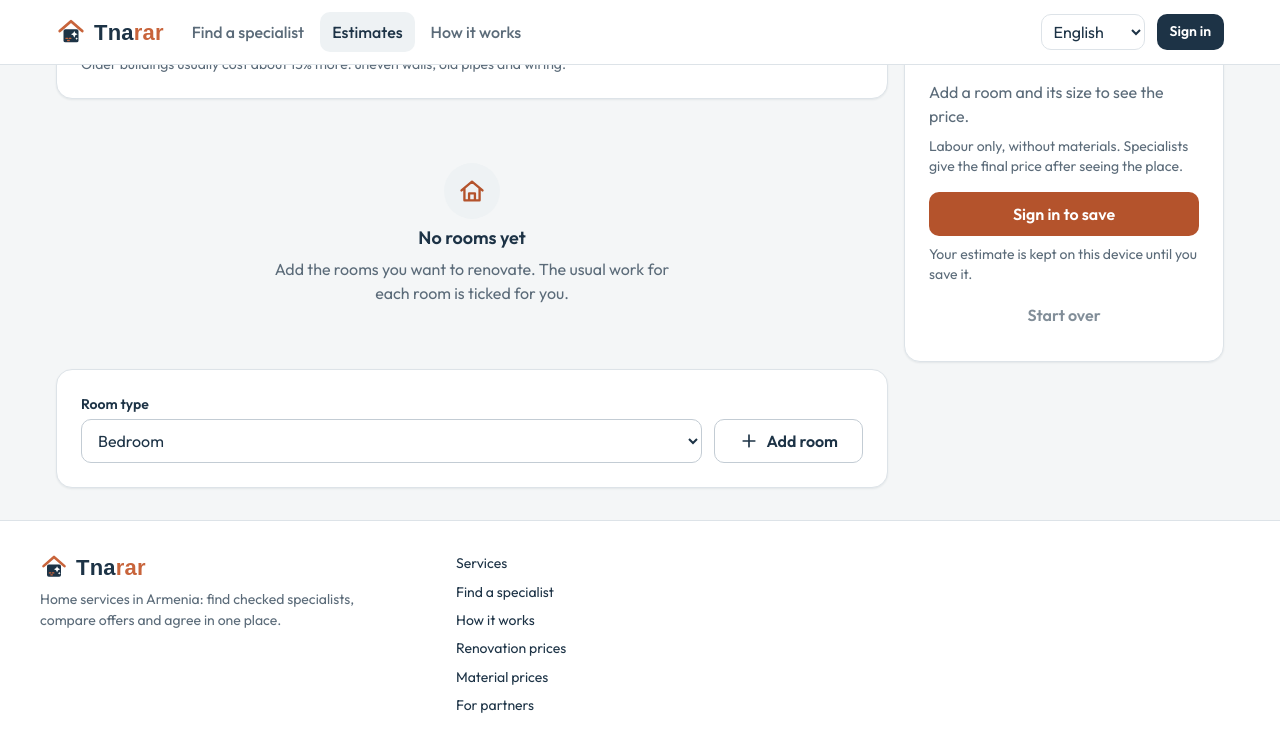
Test: Room-by-room estimator › adds the materials the work needs at the chosen grade
(page scrolled)
Select "Bathroom" in the dropdown labelled "Room type" at (391, 441), box top-left (81, 419), bottom-right (702, 463)
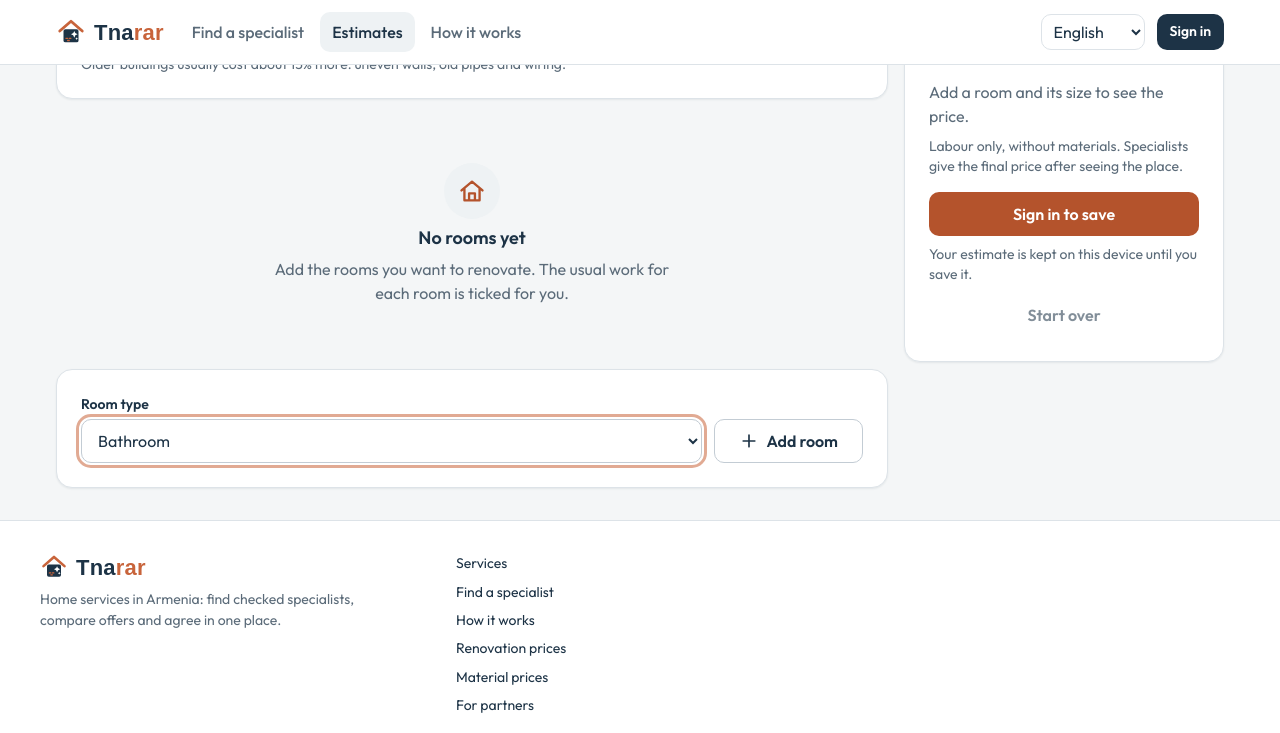
Click the button "Add room" at (788, 441), box top-left (714, 419), bottom-right (863, 463)
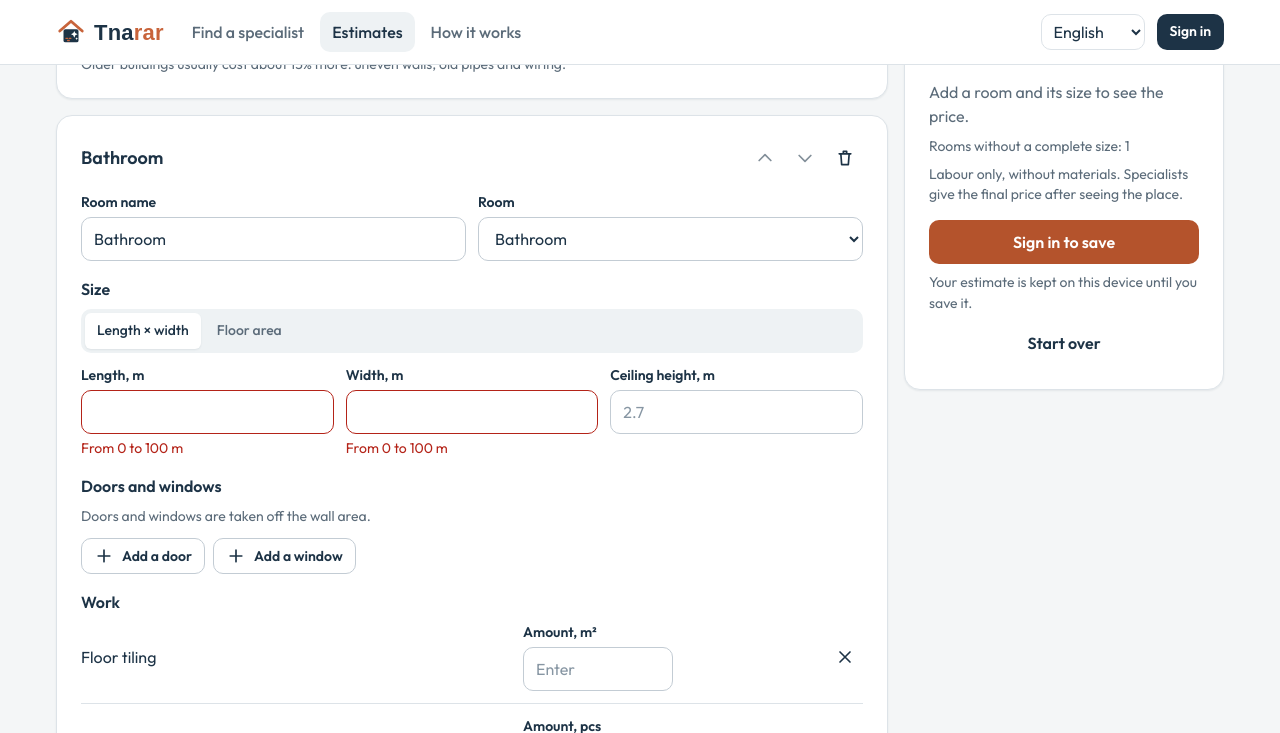
Click the radio button labelled "Floor area" at (249, 331), box top-left (205, 313), bottom-right (294, 349)
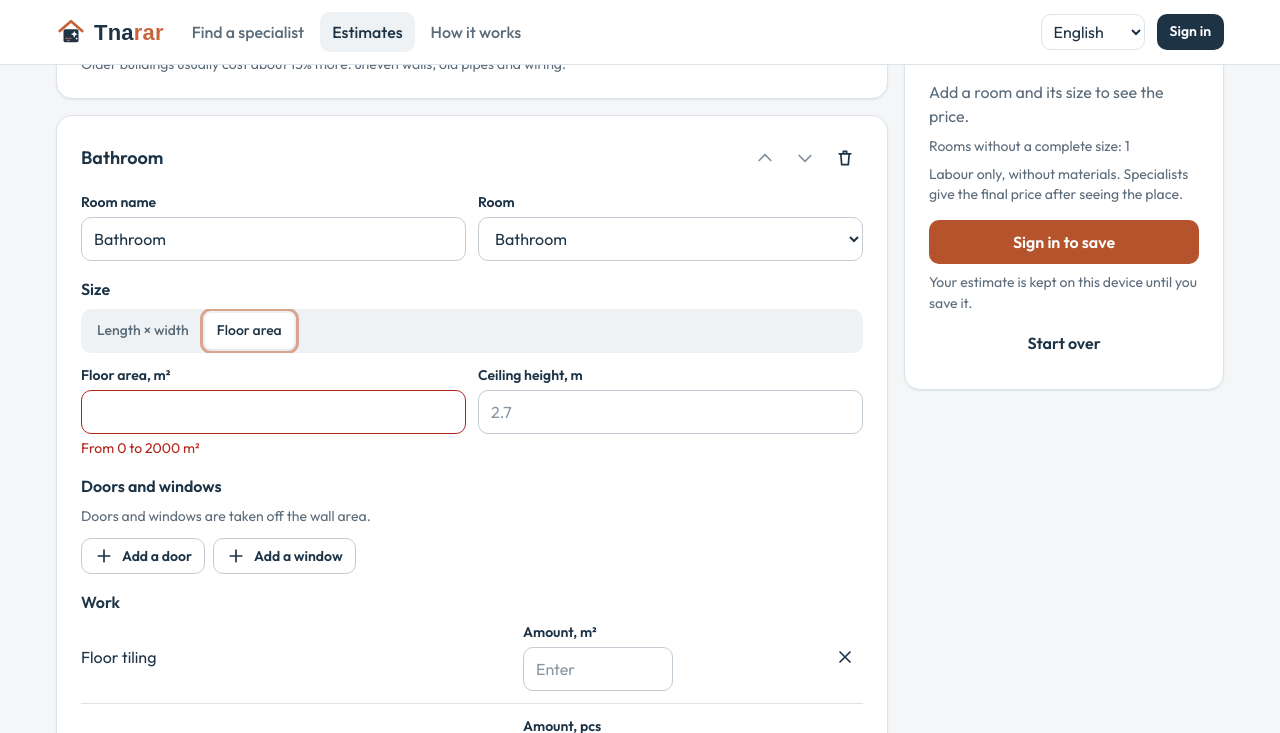
Type "4" into the field labelled "Floor area, m²" at (274, 412), box top-left (81, 390), bottom-right (466, 434)
(page scrolled)
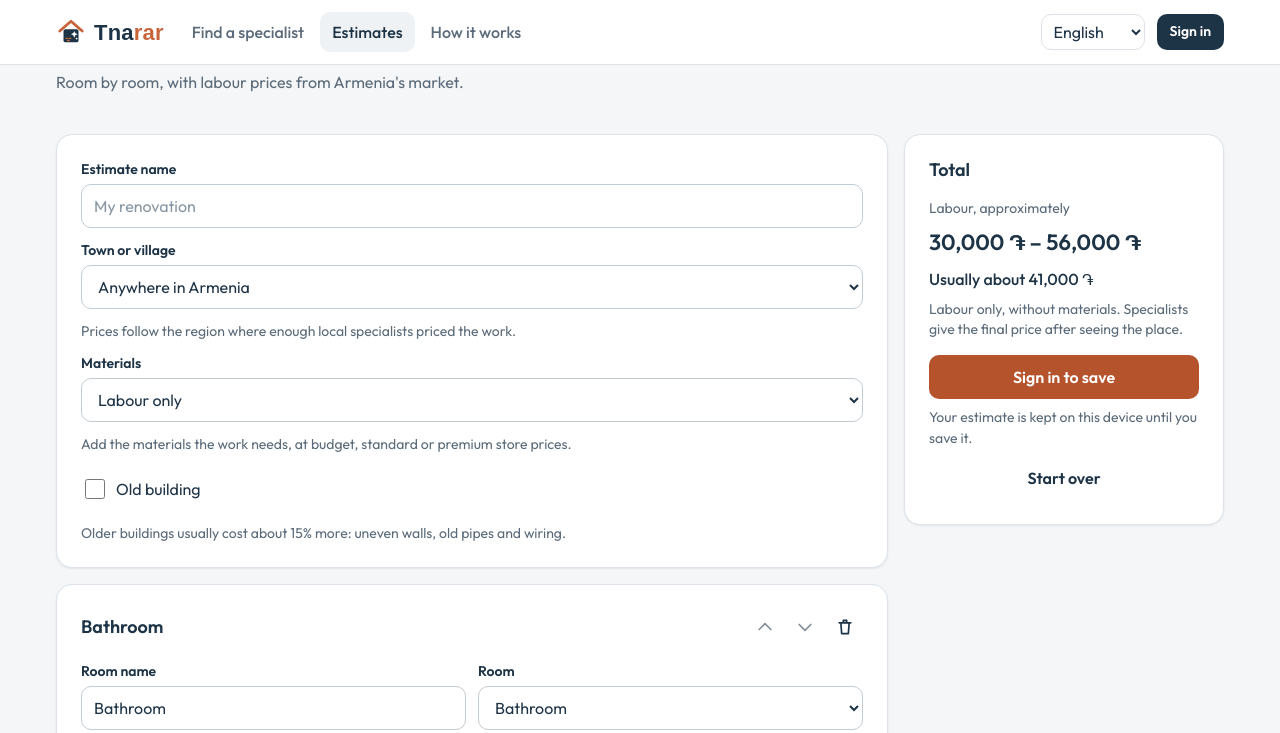
Expected: the element "Materials:" is not shown
Select "Standard materials" in the dropdown labelled "Materials" at (472, 400), box top-left (81, 378), bottom-right (863, 422)
(page scrolled)
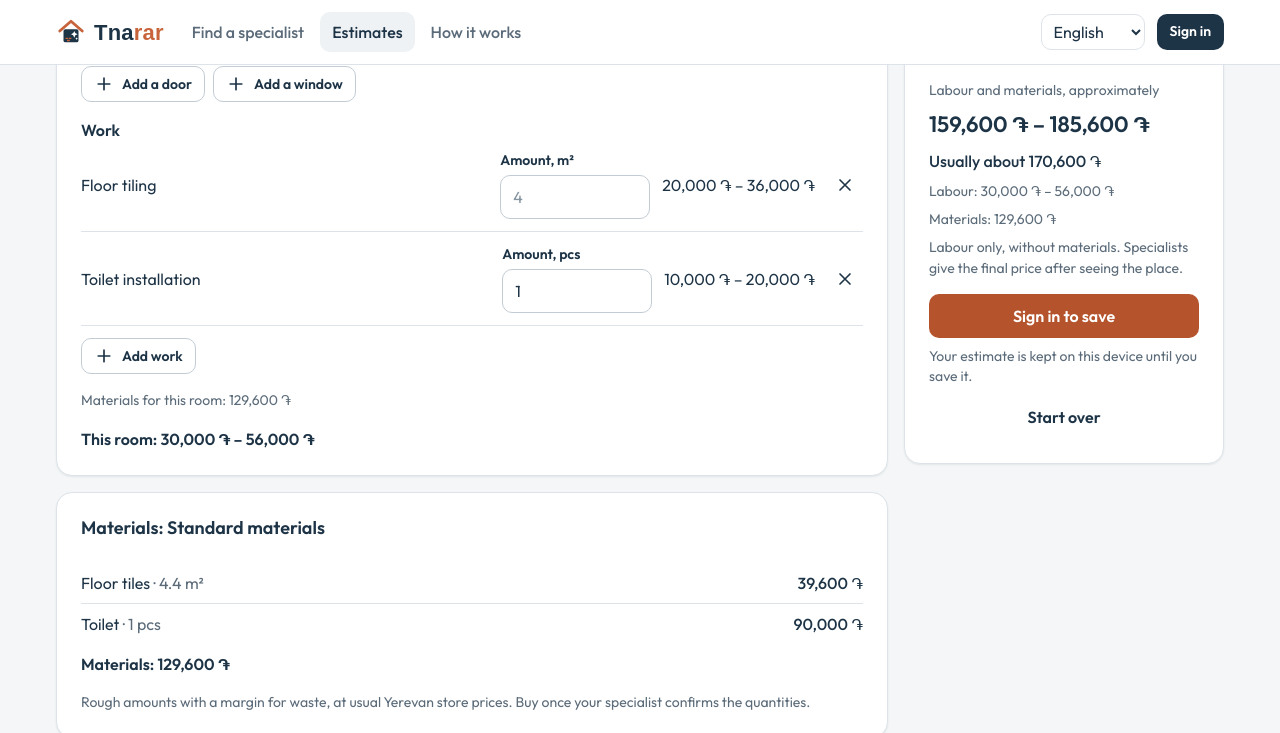
Result: the text "Labour and materials, approximately" is shown at top-left (929, 80), bottom-right (1199, 100)
Result: the text "Materials for this room: 129,600 ֏" is shown at top-left (81, 392), bottom-right (291, 410)
